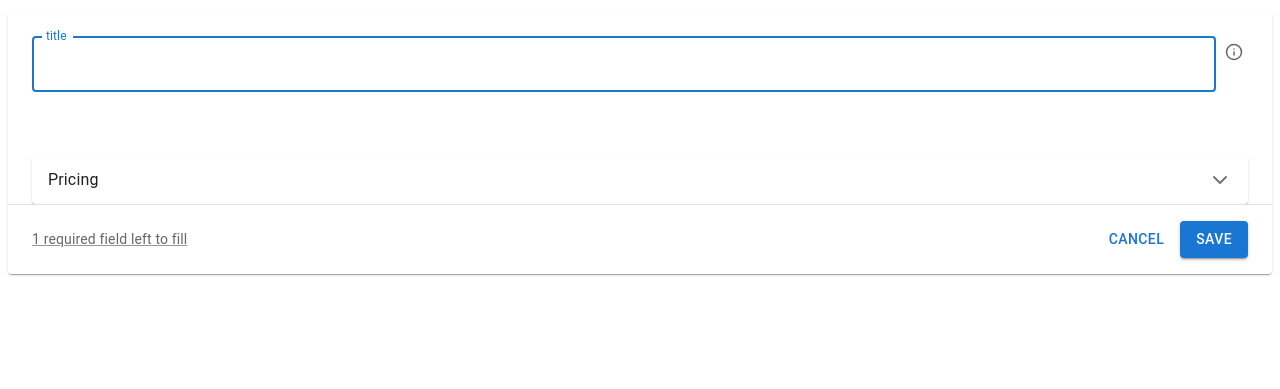
it: RecordForm › opens the accordion holding a missing required field
This screenshot has width=1280, height=389.
What coordinates should you click on to do the following:
click the button "1 required field left to fill"
I would click on:
 (110, 239)
Its box is [32,229,187,249].
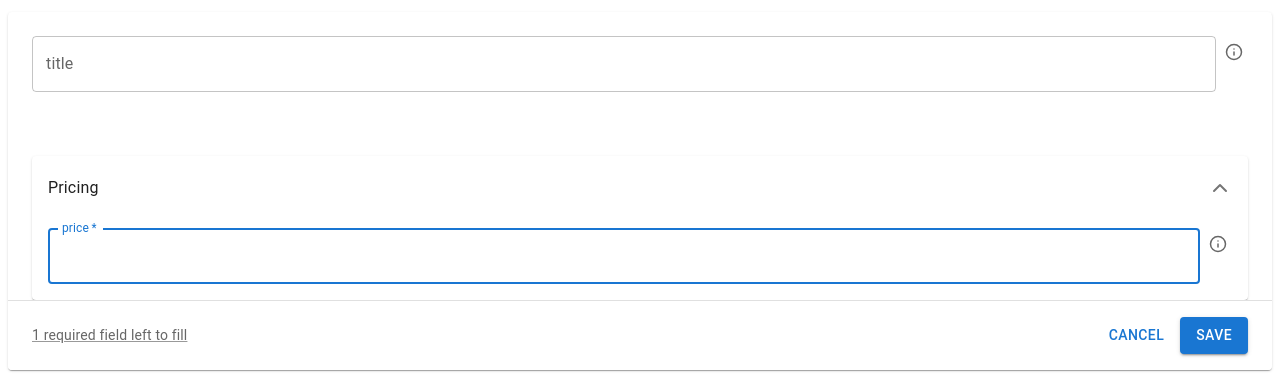
expect the button "Pricing" is expanded: met, box [32,156,1248,220]
